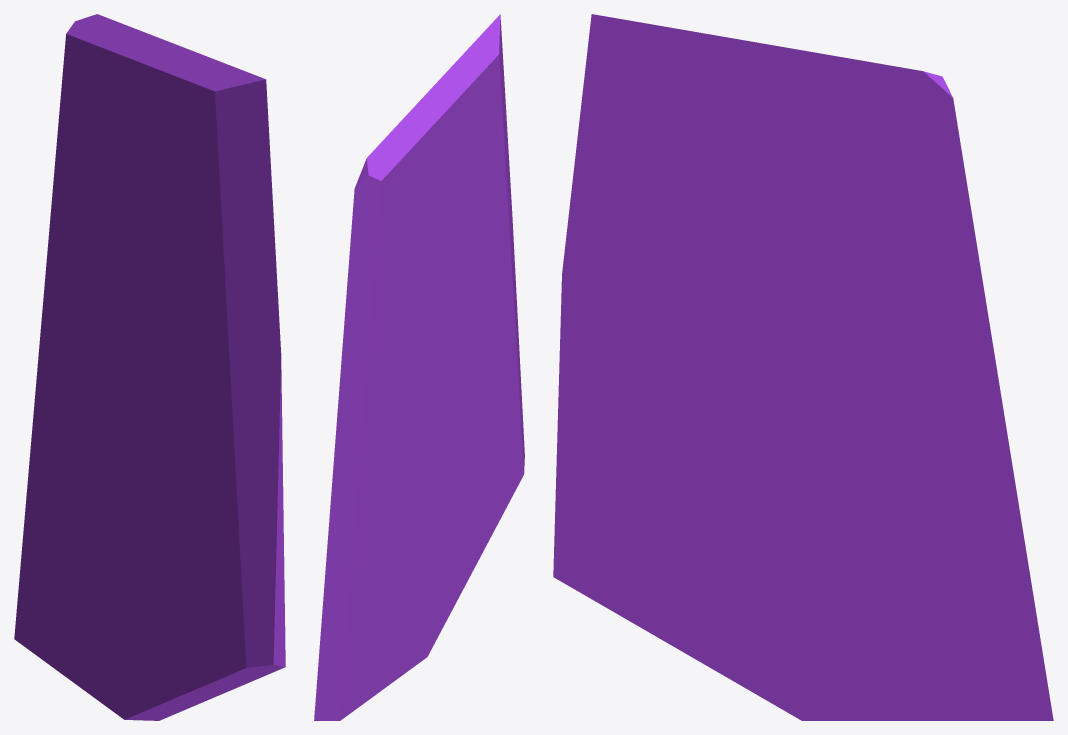
The model's file is Glass_82_6_chunks.fbx.
3 views of the same model, side by side, from view 1: azimuth 30°, elevation 25°; view 2: azimuth 150°, elevation 25°; view 3: azimuth 270°, elevation 25° (orthographic). The views are drawn at different scales.
Visible parts, largest first — view 1: Glass_82_6_2, Glass_82_6_1, Glass_82_6_0, Glass_82_6_5, Glass_82_6_6, Glass_82_6_3, Glass_82_6_4; view 2: Glass_82_6_2, Glass_82_6_0, Glass_82_6_5, Glass_82_6_1, Glass_82_6_4, Glass_82_6_6, Glass_82_6_3; view 3: Glass_82_6_2, Glass_82_6_0, Glass_82_6_1, Glass_82_6_5, Glass_82_6_4, Glass_82_6_6, Glass_82_6_3.
Boxes of the visible parts, x1,y1,x2,y2 form: Glass_82_6_2: [71, 14, 281, 409]; Glass_82_6_1: [150, 368, 285, 699]; Glass_82_6_0: [14, 421, 218, 720]; Glass_82_6_5: [20, 244, 162, 570]; Glass_82_6_6: [63, 21, 138, 282]; Glass_82_6_3: [50, 72, 87, 254]; Glass_82_6_4: [34, 222, 72, 401]; Glass_82_6_2: [359, 14, 514, 333]; Glass_82_6_0: [314, 390, 464, 720]; Glass_82_6_5: [321, 294, 457, 659]; Glass_82_6_1: [448, 258, 524, 586]; Glass_82_6_4: [321, 300, 386, 622]; Glass_82_6_6: [350, 173, 438, 321]; Glass_82_6_3: [346, 216, 398, 348]; Glass_82_6_2: [560, 14, 942, 361]; Glass_82_6_0: [683, 351, 1053, 720]; Glass_82_6_1: [553, 327, 728, 651]; Glass_82_6_5: [761, 291, 1035, 610]; Glass_82_6_4: [898, 228, 1035, 606]; Glass_82_6_6: [802, 76, 964, 292]; Glass_82_6_3: [941, 168, 973, 240].
Size of the model in its own units: 27.2 by 753 by 483.
